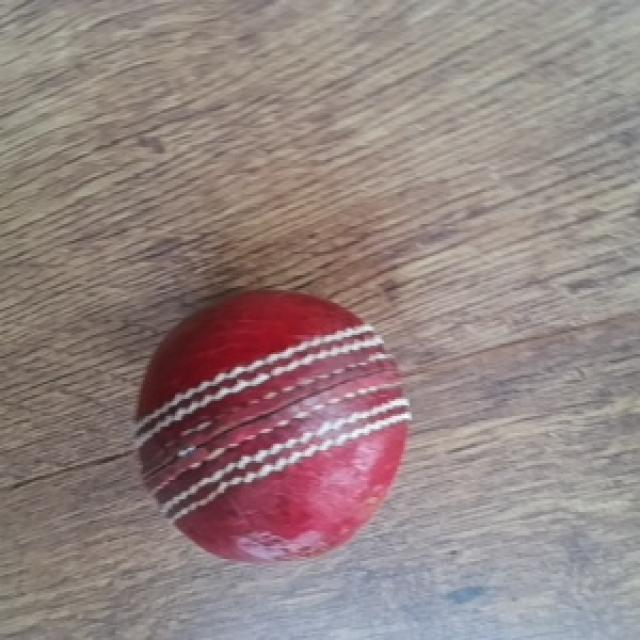ball: (133, 290, 414, 569)
